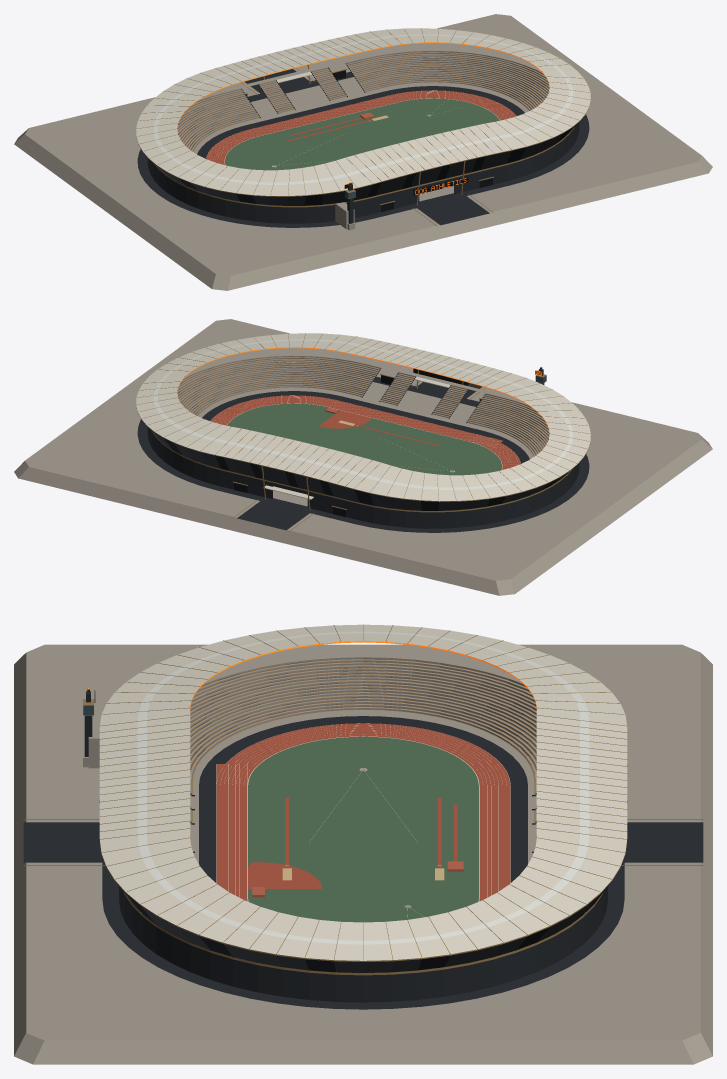
File: dog-athletics-base.glb
3 views of the same model, one above another, from view 1: azimuth 30°, elevation 25°; view 2: azimuth 150°, elevation 25°; view 3: azimuth 270°, elevation 25° (orthographic). The views are drawn at different scales.
Visible parts, largest first — view 1: ATHLETICS_BASE; view 2: ATHLETICS_BASE; view 3: ATHLETICS_BASE.
Boxes of the visible parts, bbox=[...] form: ATHLETICS_BASE: bbox=[14, 14, 712, 290]; ATHLETICS_BASE: bbox=[14, 319, 712, 595]; ATHLETICS_BASE: bbox=[14, 624, 712, 1064].
Bounding box in the file's own units: 304 × 32.8 × 220.
